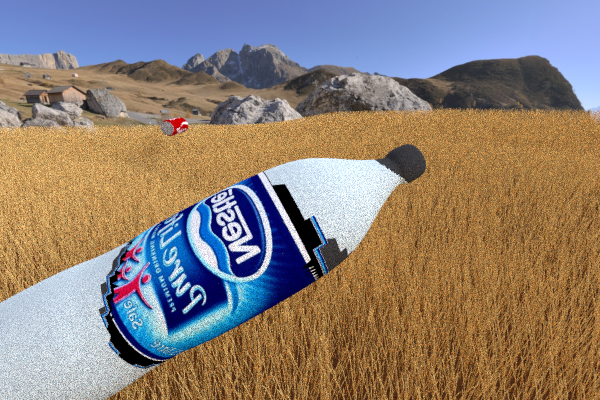Plastic Bottle: (0, 144, 426, 400), (131, 121, 208, 172), (160, 117, 188, 136)
